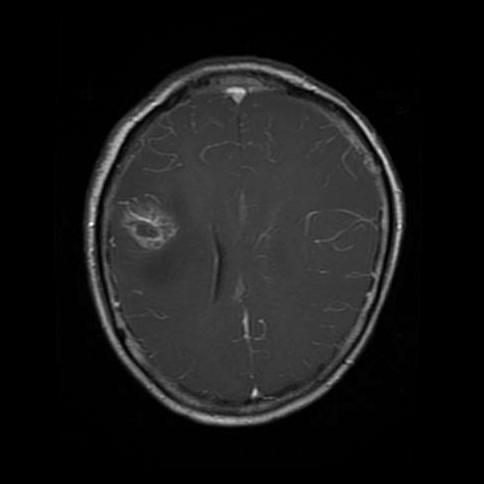Tumour-Glioma: (119, 181, 189, 264)
